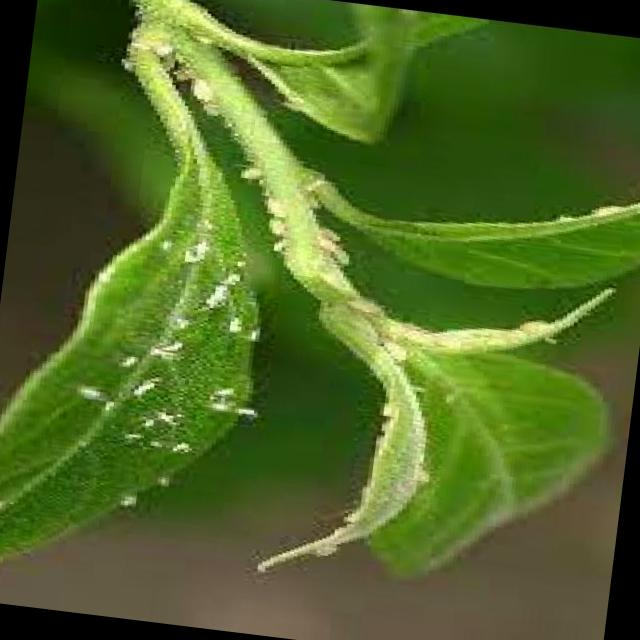aphid: (176, 69, 238, 117), (366, 330, 426, 370), (508, 308, 570, 346), (344, 287, 402, 325), (230, 156, 280, 193), (589, 195, 640, 227), (404, 460, 450, 491), (256, 212, 300, 242), (371, 396, 412, 424), (140, 39, 184, 61)
